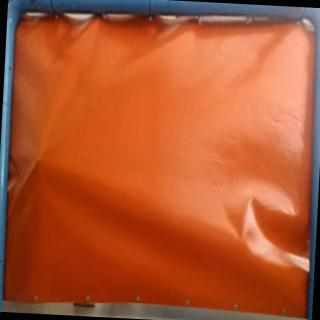Hit-hRxx: (29, 152, 46, 170)
